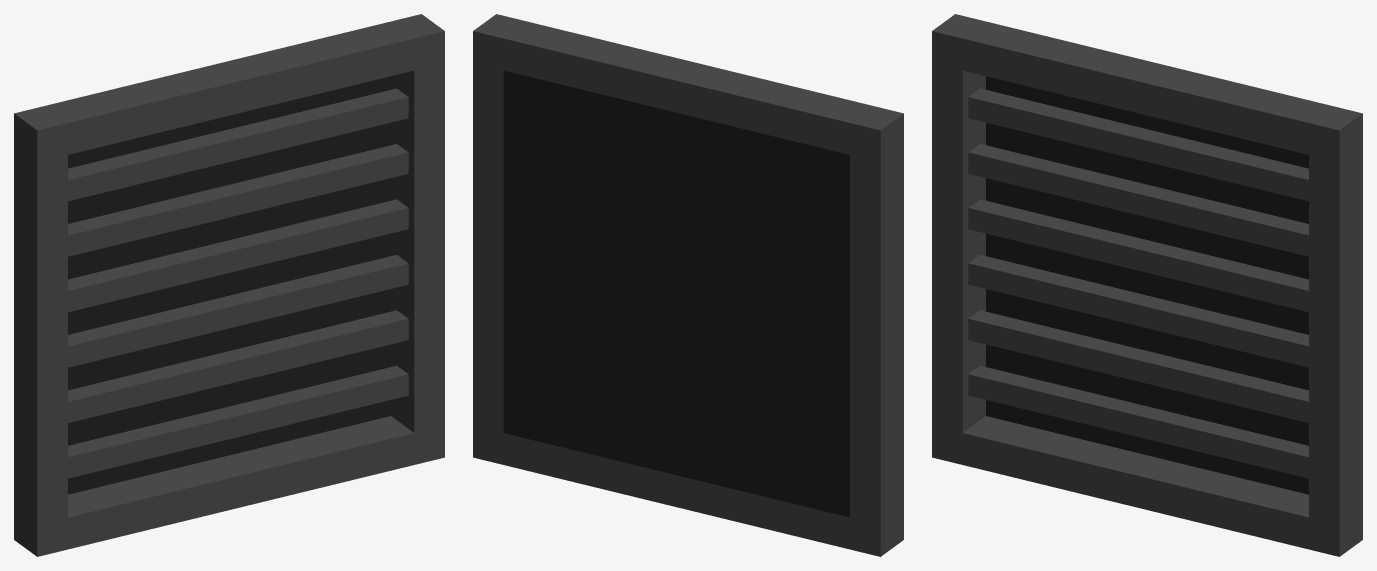
Rendered from Ventilation_02.fbx.
3 views of the same model, side by side, from view 1: azimuth 30°, elevation 25°; view 2: azimuth 150°, elevation 25°; view 3: azimuth 330°, elevation 25° (orthographic).
Parts seen in each view (by area): view 1: Ventilation_02; view 2: Ventilation_02; view 3: Ventilation_02.
Boxes of the visible parts, left/top/right/bottom form: Ventilation_02: left=14, top=14, right=444, bottom=556; Ventilation_02: left=473, top=14, right=903, bottom=556; Ventilation_02: left=932, top=14, right=1362, bottom=556.
Size of the model in its own units: 20 by 20 by 1.98.
